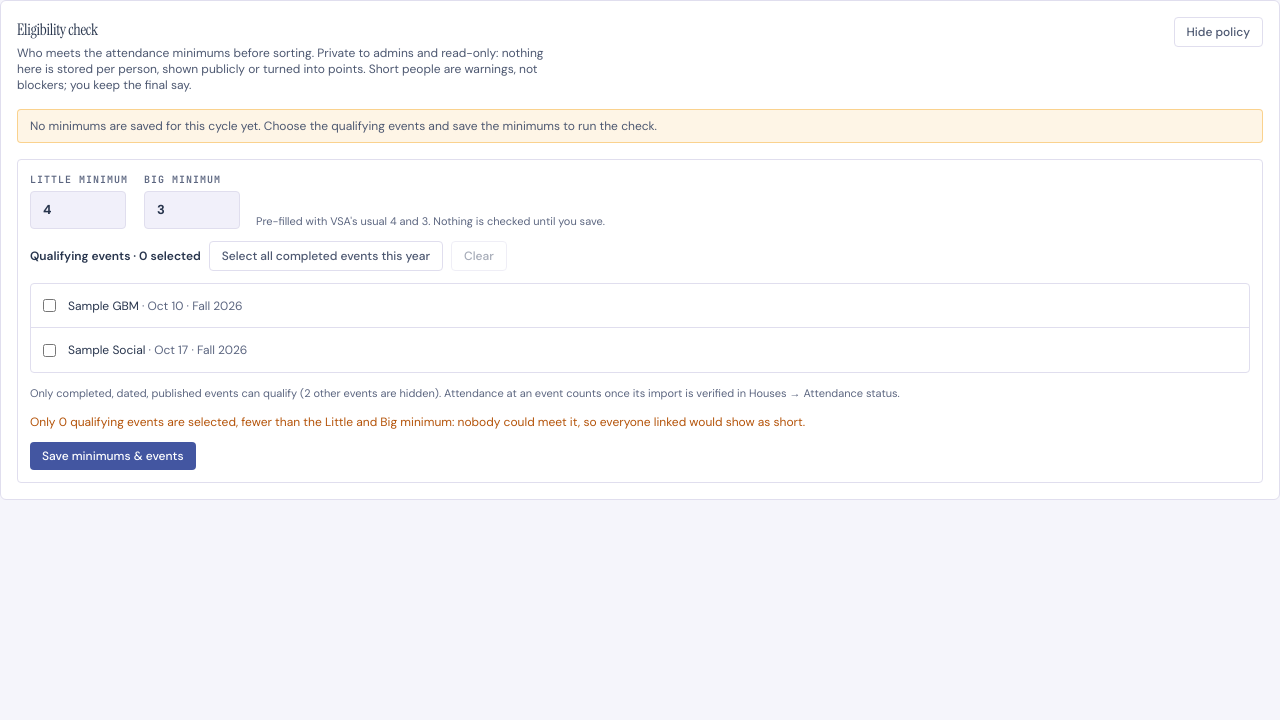
Test: warns before saving a minimum that no one could meet
The image size is (1280, 720).
Step 1. Click the checkbox labelled "Sample GBM · Oct 10 · Fall 2026" → (50,306), box [43,299,56,312]
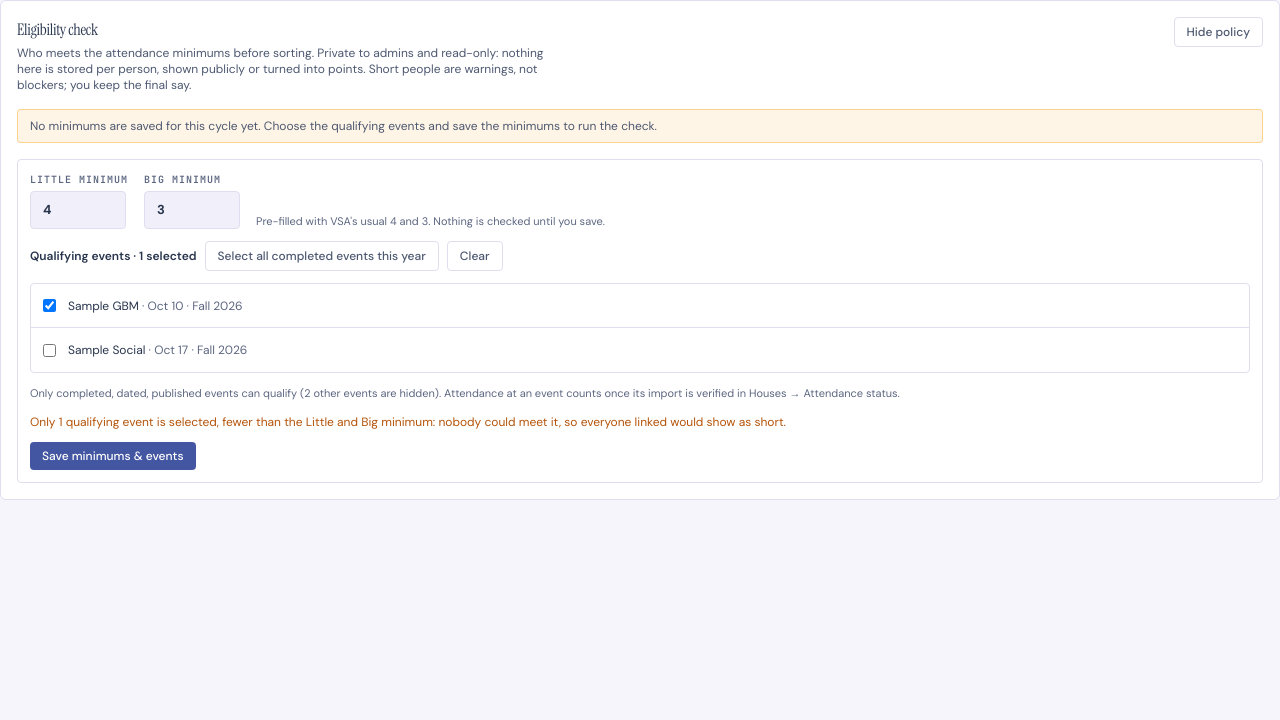
Result: the text "Only 1 qualifying event is selected, fewer than the Little and Big minimum" is shown at [30,414,786,430]
